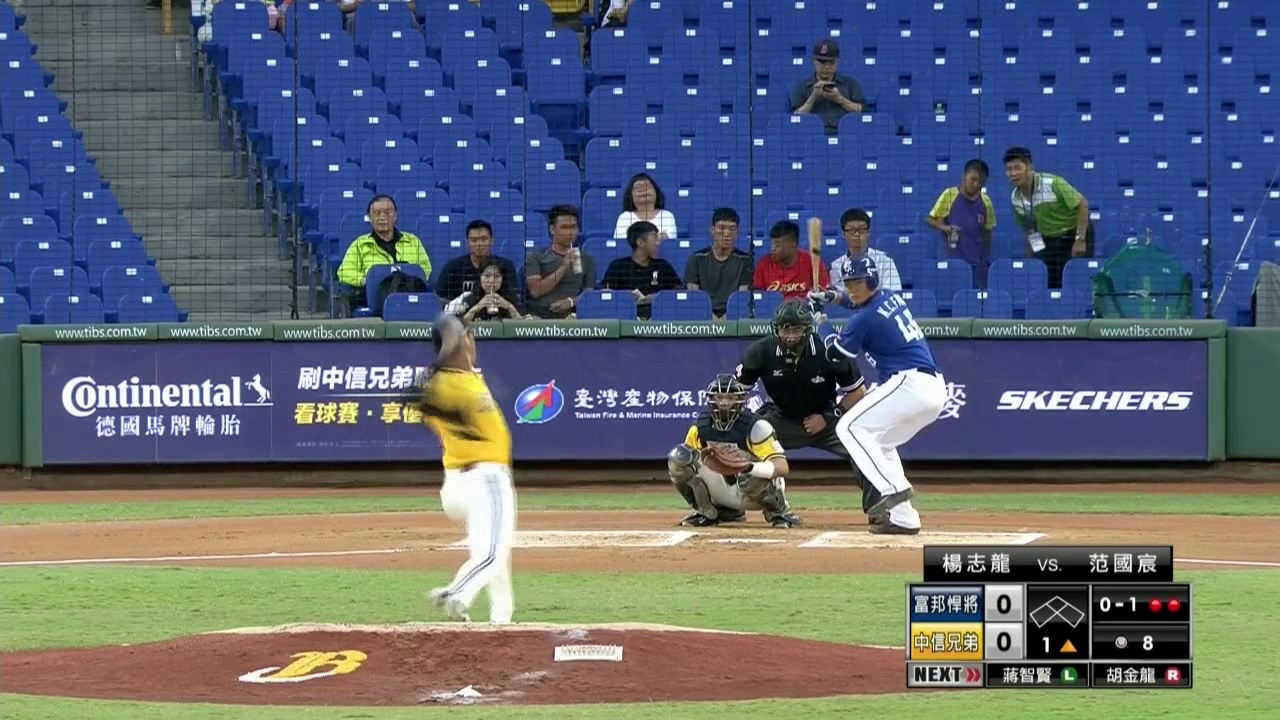ball: (440, 311, 464, 341)
base: (1029, 594, 1086, 629)
bat: (805, 212, 828, 299)
out: (1147, 596, 1181, 613)
score1: (985, 585, 1022, 620)
score2: (984, 621, 1023, 658)
session: (1039, 634, 1080, 654)
strikeball: (1097, 593, 1139, 613)
total: (1107, 630, 1162, 654)
